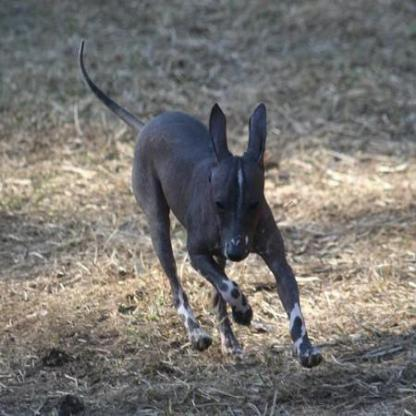Mexican_hairless: (76, 36, 324, 364)
